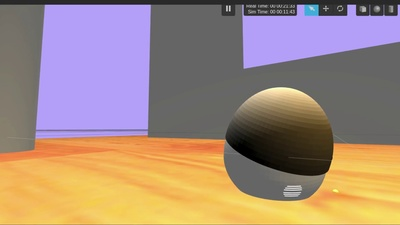mira_robot: (223, 86, 335, 202)
